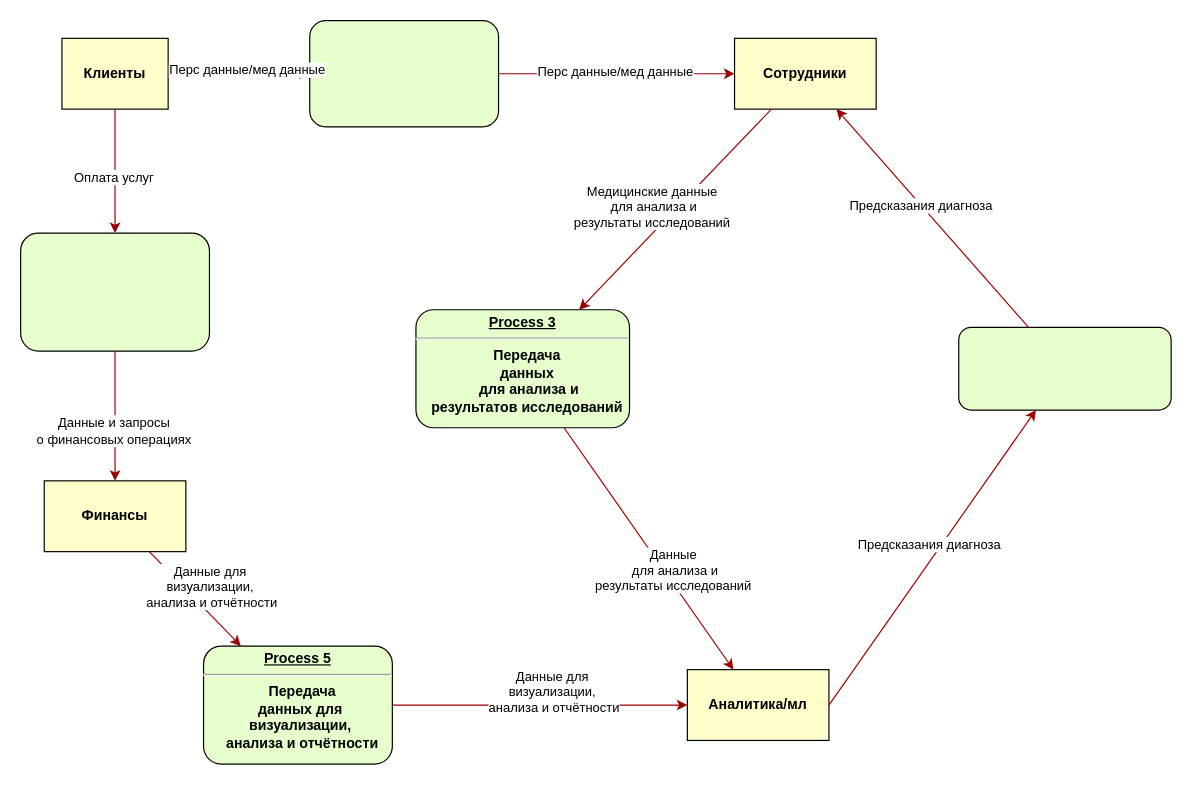
Image size: 1192x785. Some labels were removed from this diagram. Each missing label, with the box of its shape:
Process 1 Оплата услуг, получение чеков: (19, 232, 209, 351)
Process 2 Запись/прием пациентов: (309, 19, 499, 127)
Process 4 Передача предсказания диагноза: (958, 326, 1171, 410)
